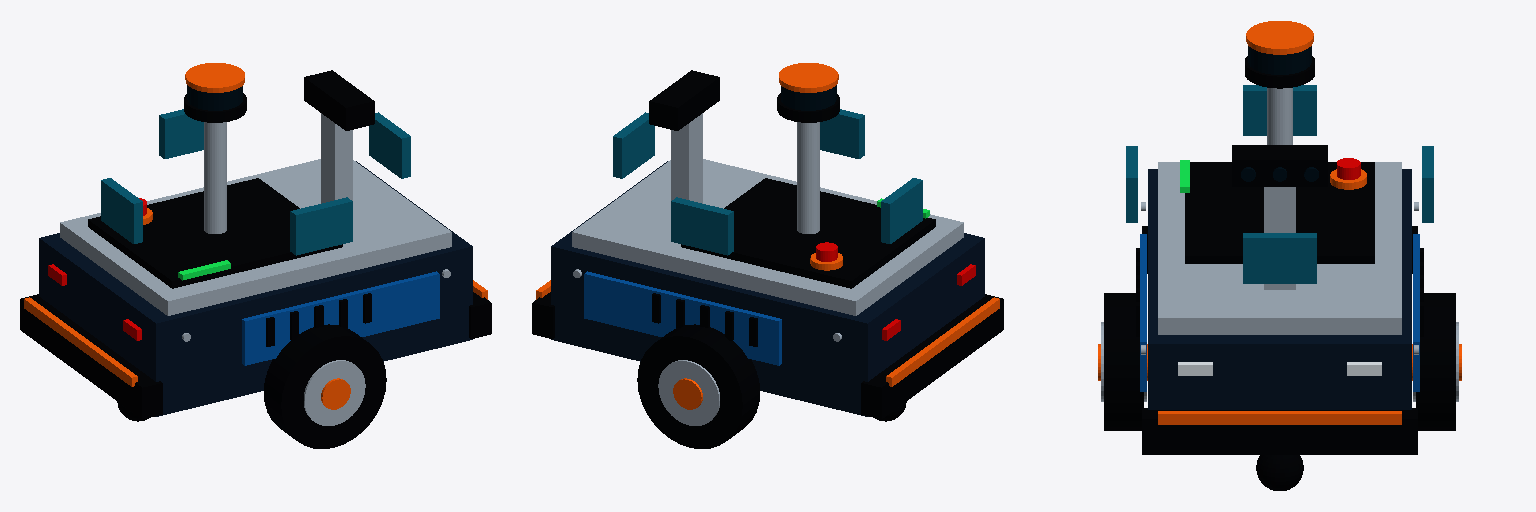
URDF robot description (warehouse_amr):
<?xml version='1.0' encoding='utf-8'?>
<robot name="warehouse_amr">
  <material name="navy">
    <color rgba=".055 .11 .18 1" />
  </material>
  <material name="silver">
    <color rgba=".65 .70 .75 1" />
  </material>
  <material name="black">
    <color rgba=".025 .03 .04 1" />
  </material>
  <material name="orange">
    <color rgba="1 .38 .035 1" />
  </material>
  <material name="blue">
    <color rgba=".04 .35 .65 1" />
  </material>
  <material name="lens">
    <color rgba=".02 .08 .12 1" />
  </material>
  <material name="green">
    <color rgba=".1 .95 .35 1" />
  </material>
  <material name="red">
    <color rgba=".9 .025 .02 1" />
  </material>
  <material name="white">
    <color rgba=".9 .93 .95 1" />
  </material>
  <link name="base_footprint" />
  <link name="base_link">
    <inertial>
      <mass value="28" />
      <inertia ixx="0.65" iyy="1.15" izz="1.45" ixy="0" ixz="0" iyz="0" />
    </inertial>
    <visual name="chassis">
      <origin xyz="0 0 0" rpy="0 0 0" />
      <geometry>
        <box size="0.78 0.5 0.22" />
      </geometry>
      <material name="navy" />
    </visual>
    <collision name="chassis_collision">
      <origin xyz="0 0 0" rpy="0 0 0" />
      <geometry>
        <box size="0.78 0.5 0.22" />
      </geometry>
    </collision>
    <visual name="upper_cover">
      <origin xyz="0 0 0.1275" rpy="0 0 0" />
      <geometry>
        <box size="0.7 0.46 0.035" />
      </geometry>
      <material name="silver" />
    </visual>
    <visual name="payload_deck">
      <origin xyz="-0.1 0 0.154" rpy="0 0 0" />
      <geometry>
        <box size="0.42 0.36 0.018" />
      </geometry>
      <material name="black" />
    </visual>
    <visual name="bumper_-0.405">
      <origin xyz="-0.405 0 -0.065" rpy="0 0 0" />
      <geometry>
        <box size="0.05 0.52 0.075" />
      </geometry>
      <material name="black" />
    </visual>
    <collision name="bumper_-0.405_collision">
      <origin xyz="-0.405 0 -0.065" rpy="0 0 0" />
      <geometry>
        <box size="0.05 0.52 0.075" />
      </geometry>
    </collision>
    <visual name="orange_trim_-0.405">
      <origin xyz="-0.431325 0 -0.025" rpy="0 0 0" />
      <geometry>
        <box size="0.015 0.46 0.022" />
      </geometry>
      <material name="orange" />
    </visual>
    <visual name="bumper_0.405">
      <origin xyz="0.405 0 -0.065" rpy="0 0 0" />
      <geometry>
        <box size="0.05 0.52 0.075" />
      </geometry>
      <material name="black" />
    </visual>
    <collision name="bumper_0.405_collision">
      <origin xyz="0.405 0 -0.065" rpy="0 0 0" />
      <geometry>
        <box size="0.05 0.52 0.075" />
      </geometry>
    </collision>
    <visual name="orange_trim_0.405">
      <origin xyz="0.431325 0 -0.025" rpy="0 0 0" />
      <geometry>
        <box size="0.015 0.46 0.022" />
      </geometry>
      <material name="orange" />
    </visual>
    <visual name="side_panel_-0.258">
      <origin xyz="0.06 -0.258 0.02" rpy="0 0 0" />
      <geometry>
        <box size="0.48 0.014 0.105" />
      </geometry>
      <material name="blue" />
    </visual>
    <visual name="vent_-0.12_-0.258">
      <origin xyz="-0.12 -0.26444999999999996 0.035" rpy="0 0 0" />
      <geometry>
        <box size="0.018 0.017 0.065" />
      </geometry>
      <material name="black" />
    </visual>
    <visual name="vent_-0.06_-0.258">
      <origin xyz="-0.06 -0.26444999999999996 0.035" rpy="0 0 0" />
      <geometry>
        <box size="0.018 0.017 0.065" />
      </geometry>
      <material name="black" />
    </visual>
    <visual name="vent_0_-0.258">
      <origin xyz="0 -0.26444999999999996 0.035" rpy="0 0 0" />
      <geometry>
        <box size="0.018 0.017 0.065" />
      </geometry>
      <material name="black" />
    </visual>
    <visual name="vent_0.06_-0.258">
      <origin xyz="0.06 -0.26444999999999996 0.035" rpy="0 0 0" />
      <geometry>
        <box size="0.018 0.017 0.065" />
      </geometry>
      <material name="black" />
    </visual>
    <visual name="vent_0.12_-0.258">
      <origin xyz="0.12 -0.26444999999999996 0.035" rpy="0 0 0" />
      <geometry>
        <box size="0.018 0.017 0.065" />
      </geometry>
      <material name="black" />
    </visual>
    <visual name="bolt_-0.32_-0.258">
      <origin xyz="-0.32 -0.258 0.065" rpy="1.5707963267948966 0 0" />
      <geometry>
        <cylinder radius="0.009" length="0.008" />
      </geometry>
      <material name="silver" />
    </visual>
    <visual name="bolt_0.32_-0.258">
      <origin xyz="0.32 -0.258 0.065" rpy="1.5707963267948966 0 0" />
      <geometry>
        <cylinder radius="0.009" length="0.008" />
      </geometry>
      <material name="silver" />
    </visual>
    <visual name="side_panel_0.258">
      <origin xyz="0.06 0.258 0.02" rpy="0 0 0" />
      <geometry>
        <box size="0.48 0.014 0.105" />
      </geometry>
      <material name="blue" />
    </visual>
    <visual name="vent_-0.12_0.258">
      <origin xyz="-0.12 0.26444999999999996 0.035" rpy="0 0 0" />
      <geometry>
        <box size="0.018 0.017 0.065" />
      </geometry>
      <material name="black" />
    </visual>
    <visual name="vent_-0.06_0.258">
      <origin xyz="-0.06 0.26444999999999996 0.035" rpy="0 0 0" />
      <geometry>
        <box size="0.018 0.017 0.065" />
      </geometry>
      <material name="black" />
    </visual>
    <visual name="vent_0_0.258">
      <origin xyz="0 0.26444999999999996 0.035" rpy="0 0 0" />
      <geometry>
        <box size="0.018 0.017 0.065" />
      </geometry>
      <material name="black" />
    </visual>
    <visual name="vent_0.06_0.258">
      <origin xyz="0.06 0.26444999999999996 0.035" rpy="0 0 0" />
      <geometry>
        <box size="0.018 0.017 0.065" />
      </geometry>
      <material name="black" />
    </visual>
    <visual name="vent_0.12_0.258">
      <origin xyz="0.12 0.26444999999999996 0.035" rpy="0 0 0" />
      <geometry>
        <box size="0.018 0.017 0.065" />
      </geometry>
      <material name="black" />
    </visual>
    <visual name="bolt_-0.32_0.258">
      <origin xyz="-0.32 0.258 0.065" rpy="1.5707963267948966 0 0" />
      <geometry>
        <cylinder radius="0.009" length="0.008" />
      </geometry>
      <material name="silver" />
    </visual>
    <visual name="bolt_0.32_0.258">
      <origin xyz="0.32 0.258 0.065" rpy="1.5707963267948966 0 0" />
      <geometry>
        <cylinder radius="0.009" length="0.008" />
      </geometry>
      <material name="silver" />
    </visual>
    <visual name="front_light_-0.16">
      <origin xyz="0.395 -0.16 0.06" rpy="0 0 0" />
      <geometry>
        <box size="0.014 0.065 0.025" />
      </geometry>
      <material name="white" />
    </visual>
    <visual name="rear_light_-0.16">
      <origin xyz="-0.395 -0.16 0.06" rpy="0 0 0" />
      <geometry>
        <box size="0.014 0.06 0.025" />
      </geometry>
      <material name="red" />
    </visual>
    <visual name="front_light_0.16">
      <origin xyz="0.395 0.16 0.06" rpy="0 0 0" />
      <geometry>
        <box size="0.014 0.065 0.025" />
      </geometry>
      <material name="white" />
    </visual>
    <visual name="rear_light_0.16">
      <origin xyz="-0.395 0.16 0.06" rpy="0 0 0" />
      <geometry>
        <box size="0.014 0.06 0.025" />
      </geometry>
      <material name="red" />
    </visual>
    <visual name="emergency_stop_base">
      <origin xyz="-0.22 0.13 0.17" rpy="0 0 0" />
      <geometry>
        <cylinder radius="0.035" length="0.015" />
      </geometry>
      <material name="orange" />
    </visual>
    <visual name="emergency_stop">
      <origin xyz="-0.22 0.13 0.19" rpy="0 0 0" />
      <geometry>
        <cylinder radius="0.023" length="0.025" />
      </geometry>
      <material name="red" />
    </visual>
    <visual name="status_strip">
      <origin xyz="-0.23 -0.18 0.17" rpy="0 0 0" />
      <geometry>
        <box size="0.12 0.018 0.013" />
      </geometry>
      <material name="green" />
    </visual>
    <visual name="camera_mast">
      <origin xyz="0.2 0 0.25" rpy="0 0 0" />
      <geometry>
        <box size="0.045 0.06 0.25" />
      </geometry>
      <material name="silver" />
    </visual>
    <collision name="camera_mast_collision">
      <origin xyz="0.2 0 0.25" rpy="0 0 0" />
      <geometry>
        <box size="0.045 0.06 0.25" />
      </geometry>
    </collision>
    <visual name="lidar_pedestal">
      <origin xyz="-0.1 0 0.3" rpy="0 0 0" />
      <geometry>
        <cylinder radius="0.025" length="0.3" />
      </geometry>
      <material name="silver" />
    </visual>
    <collision name="lidar_pedestal_collision">
      <origin xyz="-0.1 0 0.3" rpy="0 0 0" />
      <geometry>
        <cylinder radius="0.025" length="0.3" />
      </geometry>
    </collision>
  </link>
  <joint name="base_joint" type="fixed">
    <parent link="base_footprint" />
    <child link="base_link" />
    <origin xyz="0 0 0.24" rpy="0 0 0" />
  </joint>
  <link name="left_wheel_link">
    <inertial>
      <mass value="1.3" />
      <inertia ixx="0.0065" iyy="0.011" izz="0.0065" ixy="0" ixz="0" iyz="0" />
    </inertial>
    <visual name="tire">
      <origin xyz="0 0 0" rpy="1.5707963267948966 0 0" />
      <geometry>
        <cylinder radius="0.13" length="0.075" />
      </geometry>
      <material name="black" />
    </visual>
    <collision name="tire_collision">
      <origin xyz="0 0 0" rpy="1.5707963267948966 0 0" />
      <geometry>
        <cylinder radius="0.13" length="0.075" />
      </geometry>
    </collision>
    <visual name="hub_-1">
      <origin xyz="0 -0.04 0" rpy="1.5707963267948966 0 0" />
      <geometry>
        <cylinder radius="0.075" length="0.006" />
      </geometry>
      <material name="silver" />
    </visual>
    <visual name="hub_cap_-1">
      <origin xyz="0 -0.044 0" rpy="1.5707963267948966 0 0" />
      <geometry>
        <cylinder radius="0.035" length="0.01" />
      </geometry>
      <material name="orange" />
    </visual>
    <visual name="hub_1">
      <origin xyz="0 0.04 0" rpy="1.5707963267948966 0 0" />
      <geometry>
        <cylinder radius="0.075" length="0.006" />
      </geometry>
      <material name="silver" />
    </visual>
    <visual name="hub_cap_1">
      <origin xyz="0 0.044 0" rpy="1.5707963267948966 0 0" />
      <geometry>
        <cylinder radius="0.035" length="0.01" />
      </geometry>
      <material name="orange" />
    </visual>
  </link>
  <joint name="left_wheel_joint" type="continuous">
    <parent link="base_link" />
    <child link="left_wheel_link" />
    <origin xyz="0 0.295 -0.11" rpy="0 0 0" />
    <axis xyz="0 1 0" />
    <dynamics damping=".05" friction="0" />
  </joint>
  <gazebo reference="left_wheel_link">
    <mu1>1.0</mu1>
    <mu2>1.0</mu2>
  </gazebo>
  <link name="right_wheel_link">
    <inertial>
      <mass value="1.3" />
      <inertia ixx="0.0065" iyy="0.011" izz="0.0065" ixy="0" ixz="0" iyz="0" />
    </inertial>
    <visual name="tire">
      <origin xyz="0 0 0" rpy="1.5707963267948966 0 0" />
      <geometry>
        <cylinder radius="0.13" length="0.075" />
      </geometry>
      <material name="black" />
    </visual>
    <collision name="tire_collision">
      <origin xyz="0 0 0" rpy="1.5707963267948966 0 0" />
      <geometry>
        <cylinder radius="0.13" length="0.075" />
      </geometry>
    </collision>
    <visual name="hub_-1">
      <origin xyz="0 -0.04 0" rpy="1.5707963267948966 0 0" />
      <geometry>
        <cylinder radius="0.075" length="0.006" />
      </geometry>
      <material name="silver" />
    </visual>
    <visual name="hub_cap_-1">
      <origin xyz="0 -0.044 0" rpy="1.5707963267948966 0 0" />
      <geometry>
        <cylinder radius="0.035" length="0.01" />
      </geometry>
      <material name="orange" />
    </visual>
    <visual name="hub_1">
      <origin xyz="0 0.04 0" rpy="1.5707963267948966 0 0" />
      <geometry>
        <cylinder radius="0.075" length="0.006" />
      </geometry>
      <material name="silver" />
    </visual>
    <visual name="hub_cap_1">
      <origin xyz="0 0.044 0" rpy="1.5707963267948966 0 0" />
      <geometry>
        <cylinder radius="0.035" length="0.01" />
      </geometry>
      <material name="orange" />
    </visual>
  </link>
  <joint name="right_wheel_joint" type="continuous">
    <parent link="base_link" />
    <child link="right_wheel_link" />
    <origin xyz="0 -0.295 -0.11" rpy="0 0 0" />
    <axis xyz="0 1 0" />
    <dynamics damping=".05" friction="0" />
  </joint>
  <gazebo reference="right_wheel_link">
    <mu1>1.0</mu1>
    <mu2>1.0</mu2>
  </gazebo>
  <link name="front_caster_link">
    <inertial>
      <mass value="0.25" />
      <inertia ixx="0.00025" iyy="0.00025" izz="0.00025" ixy="0" ixz="0" iyz="0" />
    </inertial>
    <visual name="caster_ball">
      <origin xyz="0 0 0" rpy="0 0 0" />
      <geometry>
        <sphere radius="0.045" />
      </geometry>
      <material name="black" />
    </visual>
    <collision name="caster_ball_collision">
      <origin xyz="0 0 0" rpy="0 0 0" />
      <geometry>
        <sphere radius="0.045" />
      </geometry>
    </collision>
  </link>
  <joint name="front_caster_joint" type="fixed">
    <parent link="base_link" />
    <child link="front_caster_link" />
    <origin xyz="0.29 0 -0.195" rpy="0 0 0" />
  </joint>
  <gazebo reference="front_caster_link">
    <mu1>.001</mu1>
    <mu2>.001</mu2>
  </gazebo>
  <link name="rear_caster_link">
    <inertial>
      <mass value="0.25" />
      <inertia ixx="0.00025" iyy="0.00025" izz="0.00025" ixy="0" ixz="0" iyz="0" />
    </inertial>
    <visual name="caster_ball">
      <origin xyz="0 0 0" rpy="0 0 0" />
      <geometry>
        <sphere radius="0.045" />
      </geometry>
      <material name="black" />
    </visual>
    <collision name="caster_ball_collision">
      <origin xyz="0 0 0" rpy="0 0 0" />
      <geometry>
        <sphere radius="0.045" />
      </geometry>
    </collision>
  </link>
  <joint name="rear_caster_joint" type="fixed">
    <parent link="base_link" />
    <child link="rear_caster_link" />
    <origin xyz="-0.29 0 -0.195" rpy="0 0 0" />
  </joint>
  <gazebo reference="rear_caster_link">
    <mu1>.001</mu1>
    <mu2>.001</mu2>
  </gazebo>
  <link name="camera_link">
    <inertial>
      <mass value="0.3" />
      <inertia ixx="0.0005" iyy="0.0006" izz="0.0008" ixy="0" ixz="0" iyz="0" />
    </inertial>
    <visual name="camera_housing">
      <origin xyz="-0.035 0 0" rpy="0 0 0" />
      <geometry>
        <box size="0.07 0.18 0.055" />
      </geometry>
      <material name="black" />
    </visual>
    <collision name="camera_housing_collision">
      <origin xyz="-0.035 0 0" rpy="0 0 0" />
      <geometry>
        <box size="0.07 0.18 0.055" />
      </geometry>
    </collision>
    <visual name="lens_-0.06">
      <origin xyz="0.004 -0.06 0" rpy="0 1.5707963267948966 0" />
      <geometry>
        <cylinder radius="0.014" length="0.006" />
      </geometry>
      <material name="lens" />
    </visual>
    <visual name="lens_0">
      <origin xyz="0.004 0 0" rpy="0 1.5707963267948966 0" />
      <geometry>
        <cylinder radius="0.014" length="0.006" />
      </geometry>
      <material name="lens" />
    </visual>
    <visual name="lens_0.06">
      <origin xyz="0.004 0.06 0" rpy="0 1.5707963267948966 0" />
      <geometry>
        <cylinder radius="0.014" length="0.006" />
      </geometry>
      <material name="lens" />
    </visual>
  </link>
  <joint name="camera_joint" type="fixed">
    <parent link="base_link" />
    <child link="camera_link" />
    <origin xyz="0.24 0 0.395" rpy="0 0 0" />
  </joint>
  <link name="camera_optical_frame" />
  <joint name="camera_optical_joint" type="fixed">
    <parent link="camera_link" />
    <child link="camera_optical_frame" />
    <origin xyz="0 0 0" rpy="-1.5707963267948966 0 -1.5707963267948966" />
  </joint>
  <link name="lidar_link">
    <inertial>
      <mass value="0.3" />
      <inertia ixx="0.0005" iyy="0.0005" izz="0.0008" ixy="0" ixz="0" iyz="0" />
    </inertial>
    <visual name="lidar_base">
      <origin xyz="0 0 -0.0325" rpy="0 0 0" />
      <geometry>
        <cylinder radius="0.067" length="0.025" />
      </geometry>
      <material name="black" />
    </visual>
    <collision name="lidar_base_collision">
      <origin xyz="0 0 -0.0325" rpy="0 0 0" />
      <geometry>
        <cylinder radius="0.067" length="0.025" />
      </geometry>
    </collision>
    <visual name="lidar_window">
      <origin xyz="0 0 0" rpy="0 0 0" />
      <geometry>
        <cylinder radius="0.06" length="0.045" />
      </geometry>
      <material name="lens" />
    </visual>
    <collision name="lidar_window_collision">
      <origin xyz="0 0 0" rpy="0 0 0" />
      <geometry>
        <cylinder radius="0.06" length="0.045" />
      </geometry>
    </collision>
    <visual name="lidar_cap">
      <origin xyz="0 0 0.03" rpy="0 0 0" />
      <geometry>
        <cylinder radius="0.064" length="0.012" />
      </geometry>
      <material name="orange" />
    </visual>
  </link>
  <joint name="lidar_joint" type="fixed">
    <parent link="base_link" />
    <child link="lidar_link" />
    <origin xyz="-0.1 0 0.49" rpy="0 0 0" />
  </joint>
  <gazebo reference="lidar_link">
    <sensor name="lidar" type="gpu_lidar">
      <always_on>true</always_on>
      <update_rate>10</update_rate>
      <topic>/scan</topic>
      <gz_frame_id>lidar_link</gz_frame_id>
      <visualize>false</visualize>
      <lidar>
        <scan>
          <horizontal>
            <samples>360</samples>
            <resolution>1</resolution>
            <min_angle>-3.141592653589793</min_angle>
            <max_angle>3.141592653589793</max_angle>
          </horizontal>
        </scan>
        <range>
          <min>0.12</min>
          <max>12</max>
          <resolution>0.01</resolution>
        </range>
        <noise type="gaussian">
          <mean>0</mean>
          <stddev>0.005</stddev>
        </noise>
      </lidar>
    </sensor>
  </gazebo>
  <gazebo reference="camera_link">
    <sensor name="front_camera" type="camera">
      <always_on>true</always_on>
      <update_rate>5</update_rate>
      <topic>/camera/image_raw</topic>
      <gz_frame_id>camera_optical_frame</gz_frame_id>
      <camera>
        <horizontal_fov>1.3962634</horizontal_fov>
        <image>
          <width>640</width>
          <height>360</height>
          <format>R8G8B8</format>
        </image>
        <clip>
          <near>0.05</near>
          <far>20</far>
        </clip>
        <camera_info_topic>/camera/camera_info</camera_info_topic>
        <noise type="gaussian">
          <mean>0</mean>
          <stddev>0.003</stddev>
        </noise>
      </camera>
    </sensor>
  </gazebo>
  <gazebo>
    <plugin filename="gz-sim-diff-drive-system" name="gz::sim::systems::DiffDrive">
      <left_joint>left_wheel_joint</left_joint>
      <right_joint>right_wheel_joint</right_joint>
      <wheel_separation>0.59</wheel_separation>
      <wheel_radius>0.13</wheel_radius>
      <topic>/amr/cmd_vel</topic>
      <odom_topic>/odom</odom_topic>
      <tf_topic>/tf</tf_topic>
      <frame_id>odom</frame_id>
      <child_frame_id>base_footprint</child_frame_id>
      <odom_publish_frequency>30</odom_publish_frequency>
      <max_linear_velocity>0.5</max_linear_velocity>
      <min_linear_velocity>-0.3</min_linear_velocity>
      <max_angular_velocity>1.0</max_angular_velocity>
      <min_angular_velocity>-1.0</min_angular_velocity>
      <max_linear_acceleration>0.5</max_linear_acceleration>
      <min_linear_acceleration>-0.5</min_linear_acceleration>
    </plugin>
    <plugin filename="gz-sim-joint-state-publisher-system" name="gz::sim::systems::JointStatePublisher">
      <topic>/joint_states</topic>
      <joint_name>left_wheel_joint</joint_name>
      <joint_name>right_wheel_joint</joint_name>
    </plugin>
  </gazebo>
  <link name="rfid_front_link">
    <visual>
      <geometry>
        <box size=".024 .14 .095" />
      </geometry>
      <material name="panel_front">
        <color rgba=".05 .38 .48 1" />
      </material>
    </visual>
  </link>
  <joint name="rfid_front_mount" type="fixed">
    <parent link="base_footprint" />
    <child link="rfid_front_link" />
    <origin xyz="0.33 0.0 .50" rpy="0 0 0.0" />
  </joint>
  <link name="rfid_left_link">
    <visual>
      <geometry>
        <box size=".024 .14 .095" />
      </geometry>
      <material name="panel_left">
        <color rgba=".05 .38 .48 1" />
      </material>
    </visual>
  </link>
  <joint name="rfid_left_mount" type="fixed">
    <parent link="base_footprint" />
    <child link="rfid_left_link" />
    <origin xyz="0.0 0.28 .50" rpy="0 0 1.5707963267948966" />
  </joint>
  <link name="rfid_rear_link">
    <visual>
      <geometry>
        <box size=".024 .14 .095" />
      </geometry>
      <material name="panel_rear">
        <color rgba=".05 .38 .48 1" />
      </material>
    </visual>
  </link>
  <joint name="rfid_rear_mount" type="fixed">
    <parent link="base_footprint" />
    <child link="rfid_rear_link" />
    <origin xyz="-0.33 0.0 .50" rpy="0 0 3.141592653589793" />
  </joint>
  <link name="rfid_right_link">
    <visual>
      <geometry>
        <box size=".024 .14 .095" />
      </geometry>
      <material name="panel_right">
        <color rgba=".05 .38 .48 1" />
      </material>
    </visual>
  </link>
  <joint name="rfid_right_mount" type="fixed">
    <parent link="base_footprint" />
    <child link="rfid_right_link" />
    <origin xyz="0.0 -0.28 .50" rpy="0 0 -1.5707963267948966" />
  </joint>
  <gazebo>
    <plugin filename="gz-sim-odometry-publisher-system" name="gz::sim::systems::OdometryPublisher">
      <dimensions>2</dimensions>
      <odom_topic>/rfid/model_pose</odom_topic>
      <odom_frame>world</odom_frame>
      <robot_base_frame>rfid_model</robot_base_frame>
      <tf_topic>/rfid/sim_tf</tf_topic>
      <odom_publish_frequency>5</odom_publish_frequency>
    </plugin>
  </gazebo>
</robot>

--- What the picture shows (computed from the rendered views, not written in the file) ---
3 views of the same robot in one strip: view 1: azimuth 30°, elevation 25°; view 2: azimuth 150°, elevation 25°; view 3: azimuth 270°, elevation 25° (orthographic).
Robot: warehouse_amr — 13 links, 12 joints (2 continuous, 10 fixed); root link base_footprint; default pose: all joints at 0.
Visible links, largest first — view 1: base_link, right_wheel_link, lidar_link, rfid_right_link, camera_link, rfid_rear_link, rfid_front_link, rfid_left_link; view 2: base_link, left_wheel_link, lidar_link, rfid_left_link, camera_link, rfid_rear_link, rfid_front_link, rfid_right_link; view 3: base_link, left_wheel_link, right_wheel_link, lidar_link, camera_link, rfid_front_link, rfid_rear_link, front_caster_link, rfid_left_link, rfid_right_link.
Link boxes in pixels (x1=…): base_link: x1=20, y1=113, x2=491, y2=419; right_wheel_link: x1=264, y1=324, x2=386, y2=448; lidar_link: x1=184, y1=63, x2=246, y2=122; rfid_right_link: x1=290, y1=197, x2=352, y2=255; camera_link: x1=304, y1=70, x2=374, y2=130; rfid_rear_link: x1=101, y1=178, x2=142, y2=243; rfid_front_link: x1=369, y1=112, x2=410, y2=178; rfid_left_link: x1=159, y1=109, x2=203, y2=158; base_link: x1=532, y1=113, x2=1003, y2=419; left_wheel_link: x1=637, y1=324, x2=759, y2=448; lidar_link: x1=777, y1=63, x2=839, y2=122; rfid_left_link: x1=671, y1=197, x2=733, y2=255; camera_link: x1=649, y1=70, x2=719, y2=130; rfid_rear_link: x1=881, y1=178, x2=922, y2=243; rfid_front_link: x1=613, y1=112, x2=654, y2=178; rfid_right_link: x1=820, y1=109, x2=864, y2=158; base_link: x1=1136, y1=88, x2=1423, y2=454; left_wheel_link: x1=1412, y1=293, x2=1461, y2=430; right_wheel_link: x1=1098, y1=293, x2=1147, y2=430; lidar_link: x1=1245, y1=21, x2=1314, y2=88; camera_link: x1=1232, y1=145, x2=1327, y2=186; rfid_front_link: x1=1243, y1=233, x2=1316, y2=283; rfid_rear_link: x1=1243, y1=85, x2=1316, y2=135; front_caster_link: x1=1256, y1=455, x2=1303, y2=490; rfid_left_link: x1=1422, y1=146, x2=1433, y2=222; rfid_right_link: x1=1126, y1=146, x2=1137, y2=222.
Size in the robot's own frame: 0.8777 by 0.688 by 0.766 metres.
Geometry: primitives only (box / cylinder / sphere), no mesh files.
